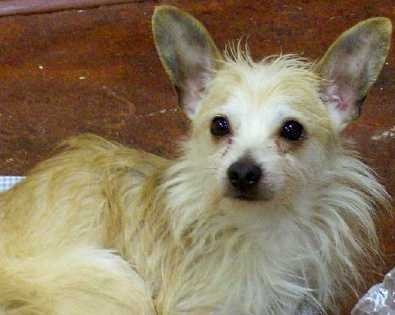dog: (49, 5, 365, 299)
